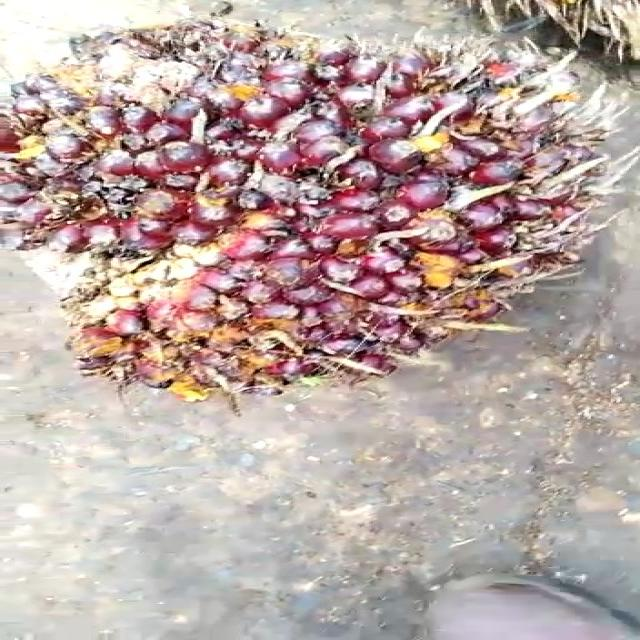palm oil: (0, 23, 625, 400)
